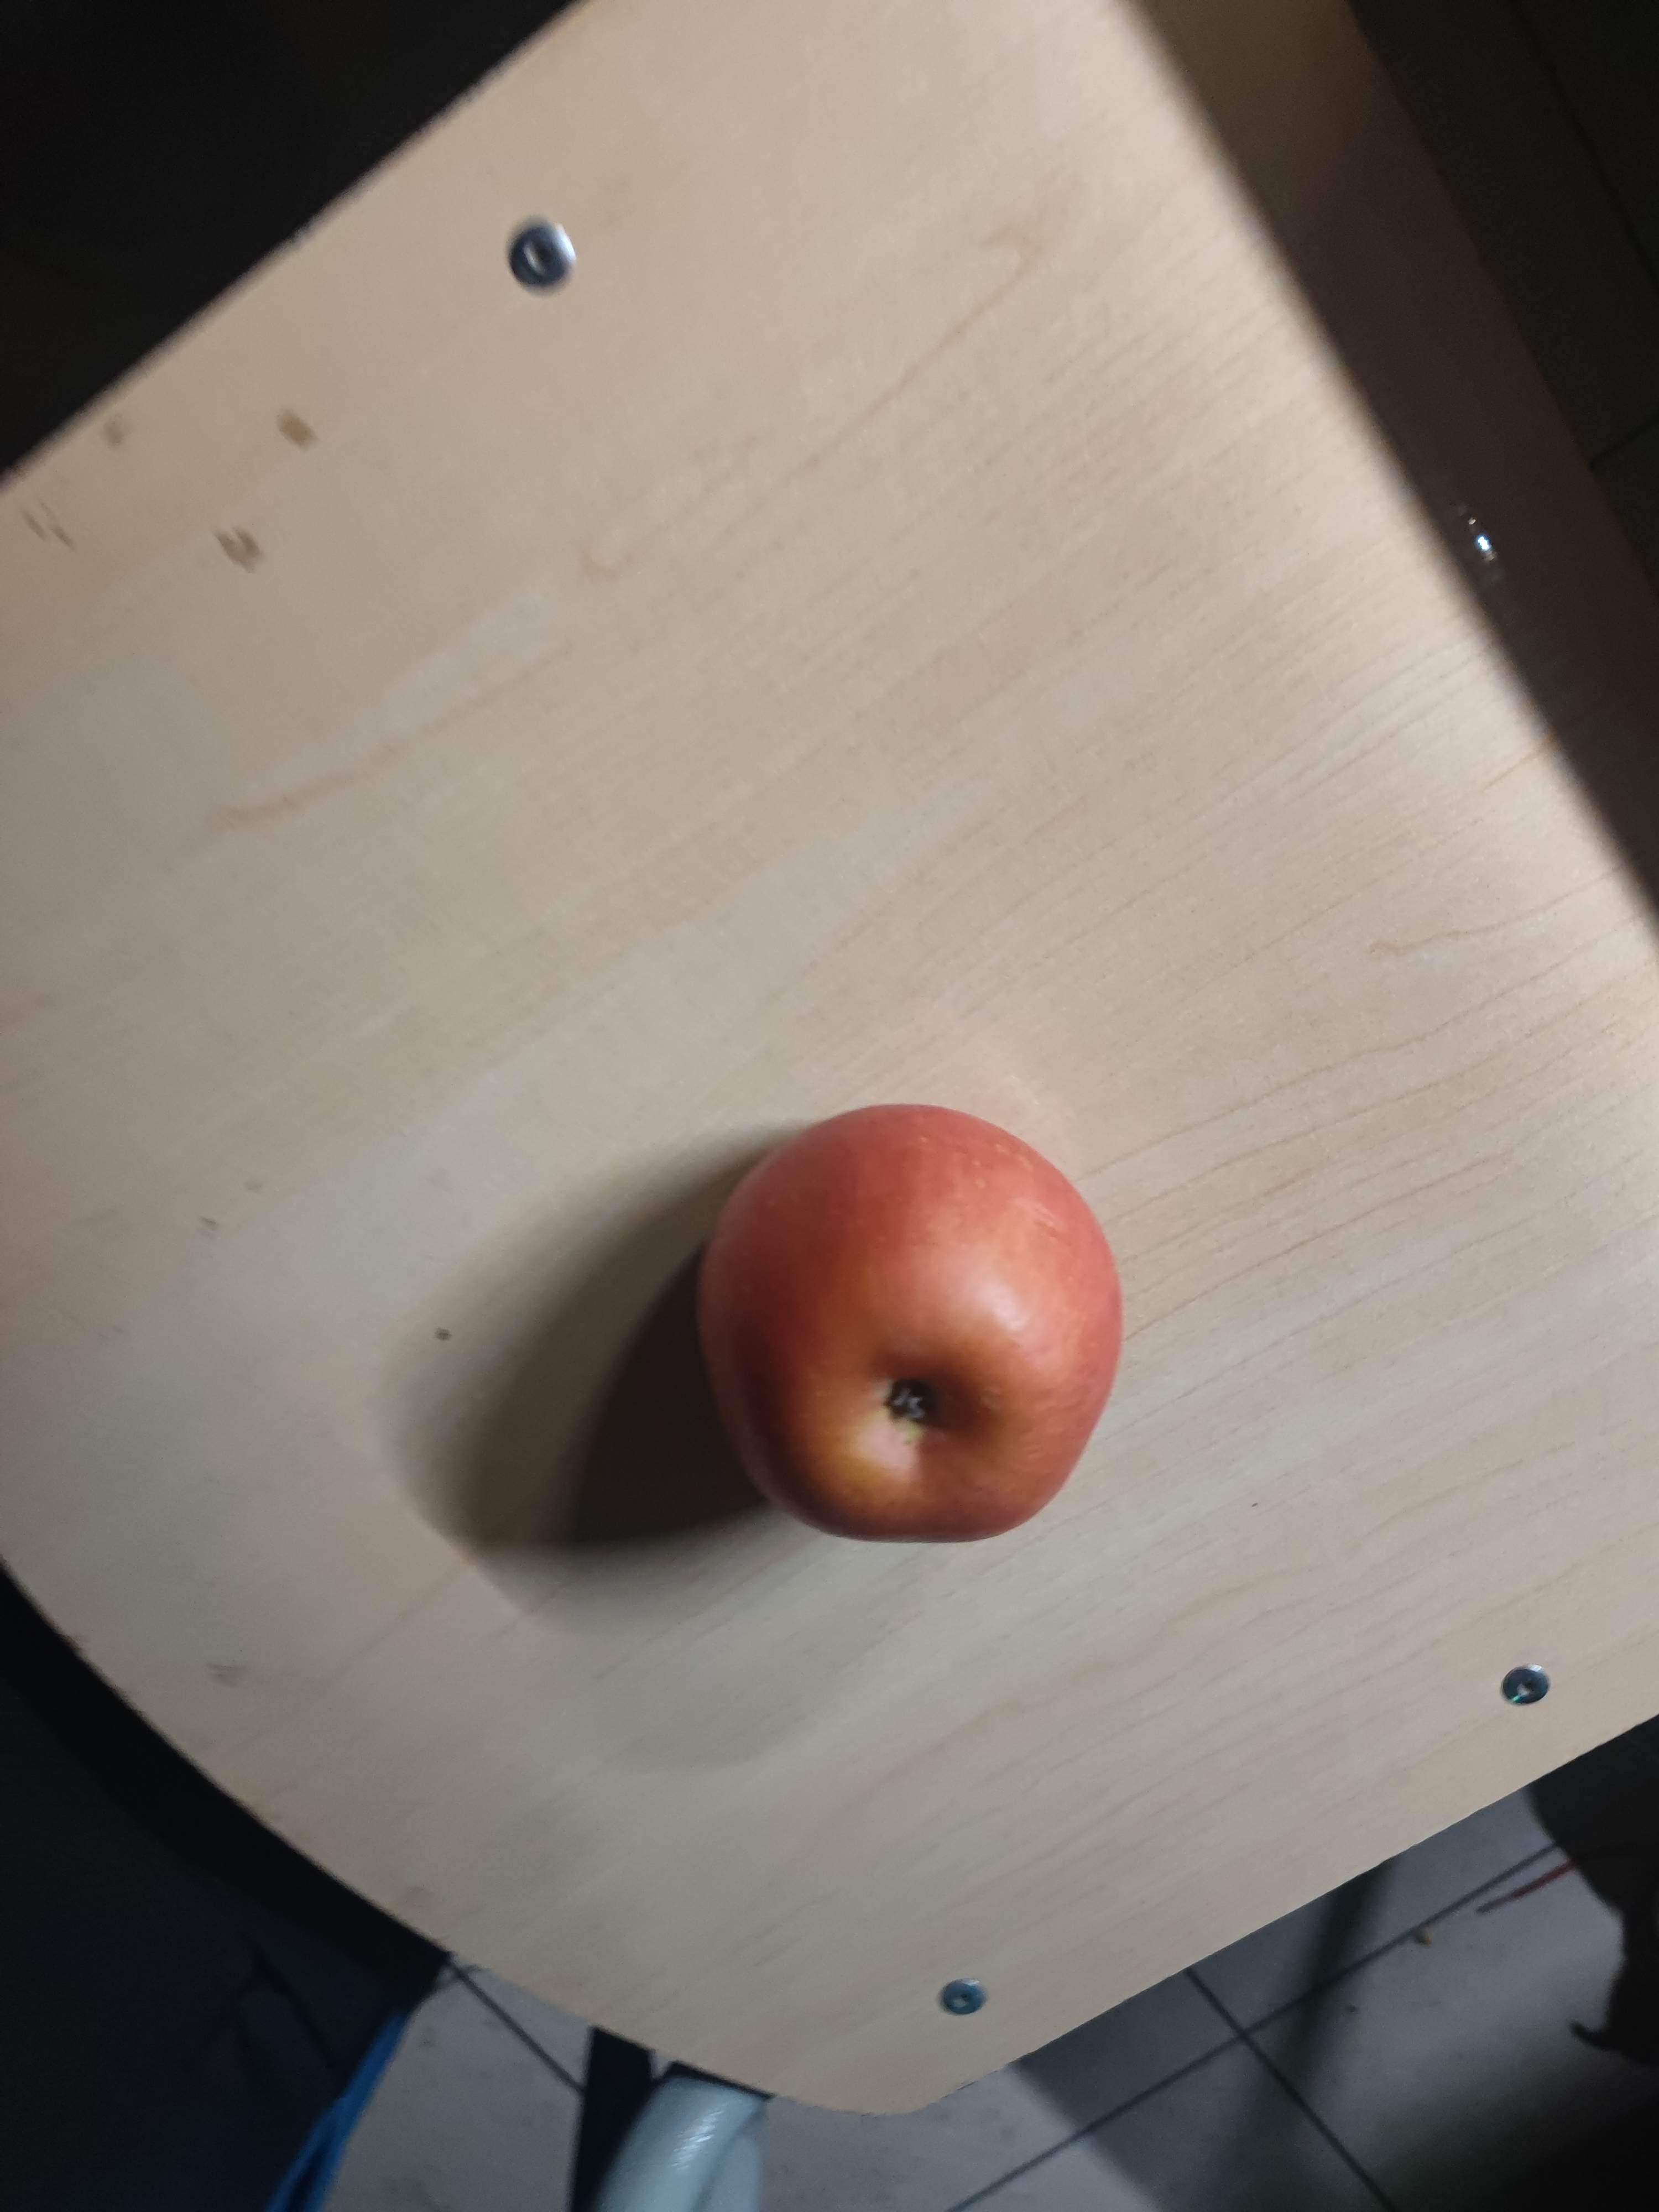apple: (694, 1106, 1133, 1550)
